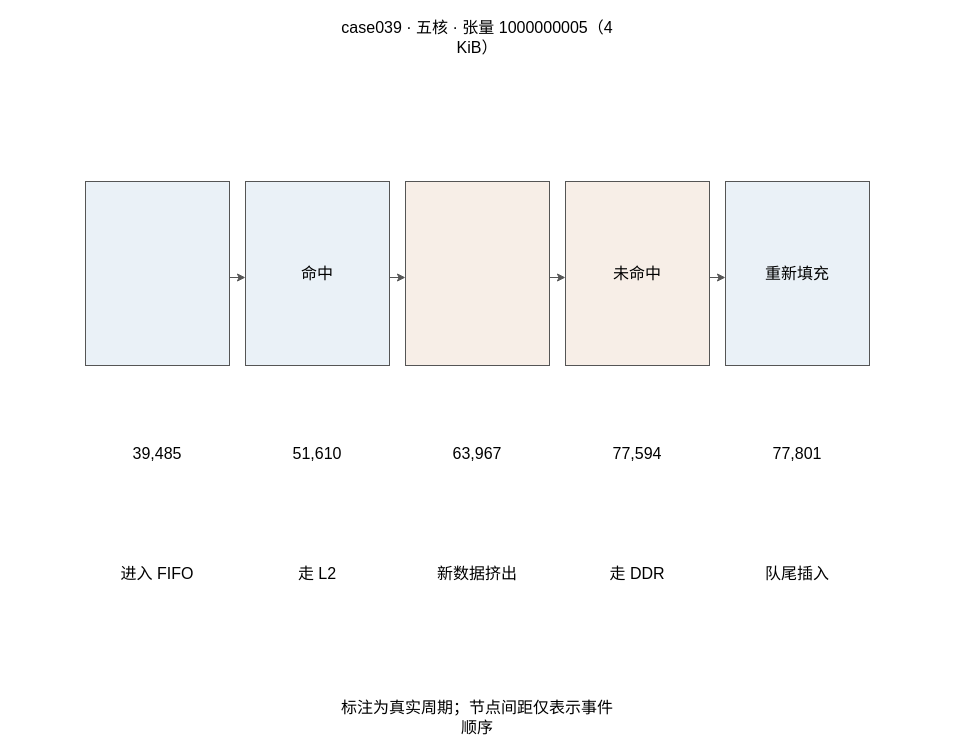
Image size: 954x754. Some labels were removed from this diagram. The centre of each missing label's shape, as x and y in pixels:
填充: the point at 157,273
淘汰: the point at 477,273
